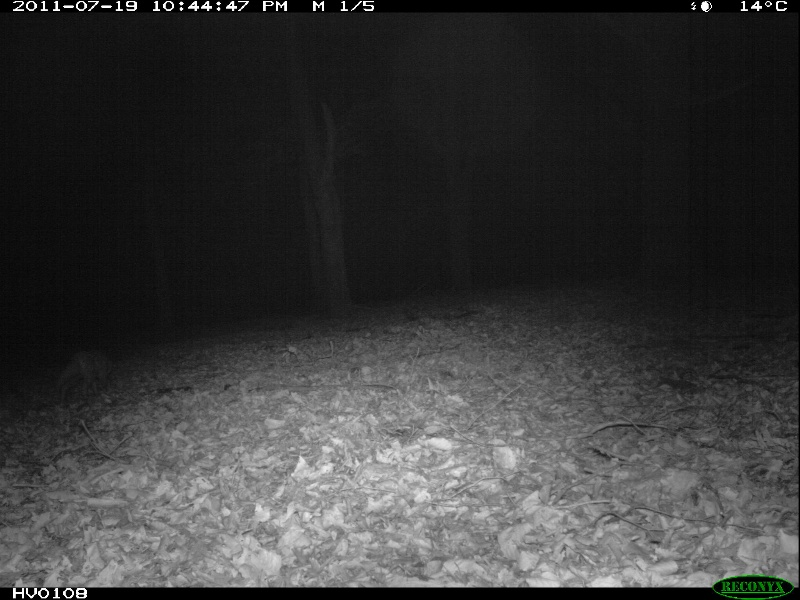fox: (59, 344, 112, 384)
